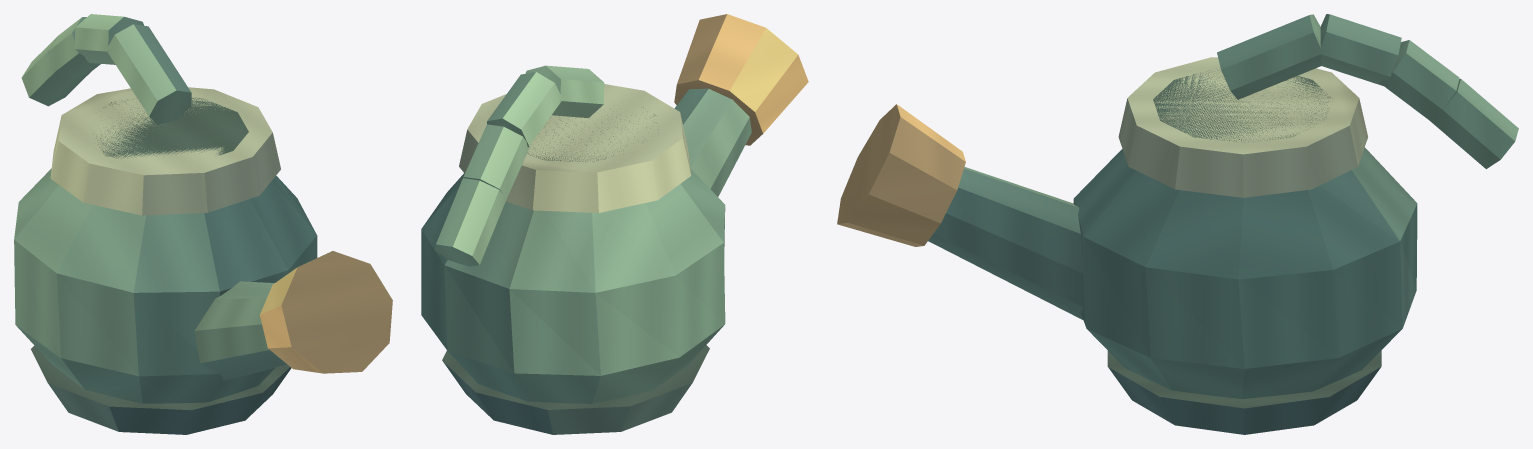
The model's file is watering_can.glb.
3 views of the same model, side by side, from view 1: azimuth 30°, elevation 25°; view 2: azimuth 150°, elevation 25°; view 3: azimuth 270°, elevation 25° (orthographic). The views are drawn at different scales.
Parts seen in each view (by area): view 1: Gießkanne · Grünes Email und Messing; view 2: Gießkanne · Grünes Email und Messing; view 3: Gießkanne · Grünes Email und Messing.
Boxes of the visible parts, x1,y1,x2,y2 form: Gießkanne · Grünes Email und Messing: (14, 14, 392, 434); Gießkanne · Grünes Email und Messing: (421, 14, 808, 434); Gießkanne · Grünes Email und Messing: (837, 14, 1518, 434).
Bounding box in the file's own units: 0.249 × 0.3308 × 0.5297.
2 materials, 2 textured.
